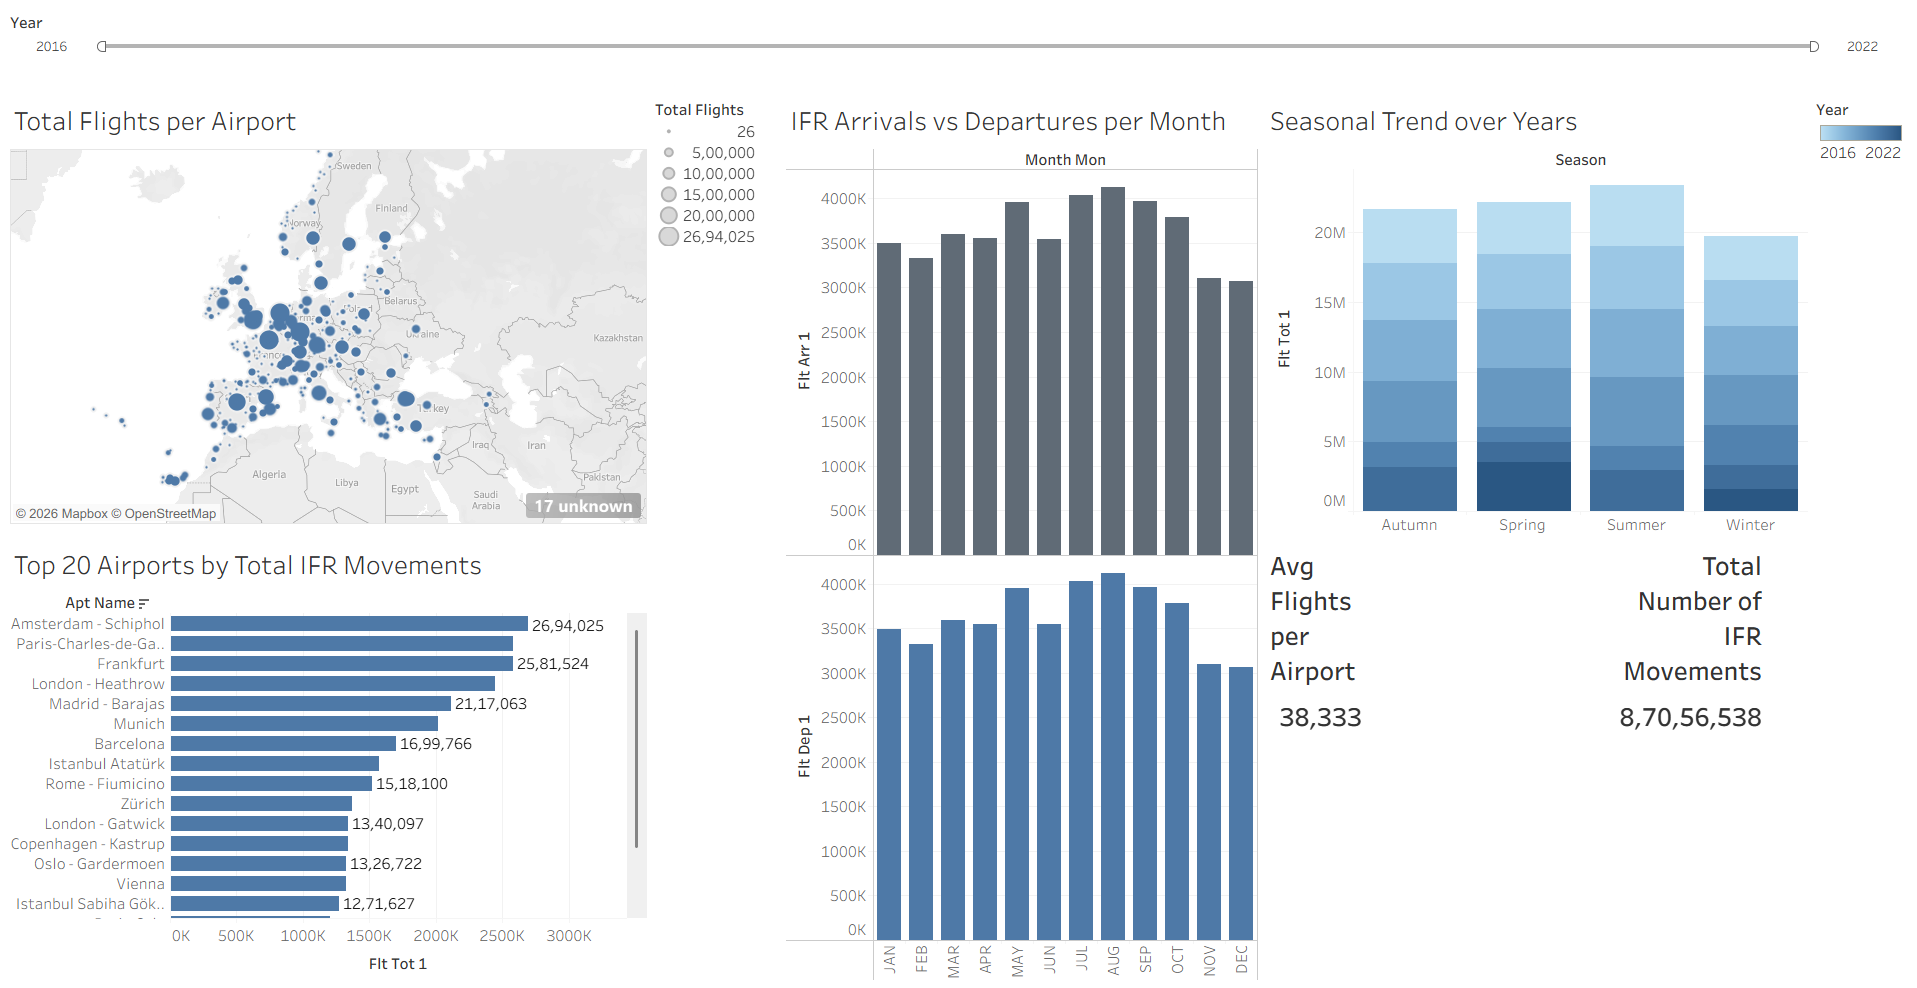

What the dashboard file says about the page in this screenshot:
{"tool":"tableau","page":{"name":"European IFR movements","canvas":[1000,1000],"units":"permille","ordinal":0},"visuals":[{"type":"filter","title":"Total Flights per Airport","param":"[federated.0al27mt1p6d7nz19milpa05riklj].[none:YEAR:qk]","box":[4.8,9.3,990.3,87.1]},{"type":"worksheet","title":"Total Flights per Airport","mark":"Automatic","box":[4.8,96.4,332.6,446.6]},{"type":"legend","title":"Total Flights per Airport","param":"[federated.0al27mt1p6d7nz19milpa05riklj].[sum:FLT_TOT_1:qk]","box":[337.4,96.4,67.5,894.3]},{"type":"worksheet","title":"IFR Arrivals vs Departures per Month","mark":"Automatic","rows":["FLT_ARR_1","FLT_DEP_1"],"cols":["MONTH_MON"],"box":[404.9,96.4,247.4,894.3]},{"type":"worksheet","title":"Seasonal Trend over Years","mark":"Bar","rows":["FLT_TOT_1"],"cols":["Calculation_1356709402570801157"],"box":[652.3,96.4,283.7,447.2]},{"type":"legend","title":"Seasonal Trend over Years","param":"[federated.0al27mt1p6d7nz19milpa05riklj].[none:YEAR:qk]","box":[936,96.4,59.1,84.8]},{"type":"worksheet","title":"Top 20 Airports by Total IFR Movements","mark":"Automatic","rows":["APT_NAME"],"cols":["FLT_TOT_1"],"box":[4.8,543,332.6,447.7]},{"type":"worksheet","title":"Avg Flights per Airport","mark":"Automatic","box":[652.3,543.5,175.7,447.2]},{"type":"worksheet","title":"Total number of IFR ","mark":"Automatic","box":[828,543.5,108,447.2]}]}

Visuals, with their boxes on the dashboard's canvas, which has no fixed pixel size, in thousandths of its width and height (x1, y1, x2, y2). These are canvas units, not pixel positions in the 1917x988 screenshot, which may show the page scaled, cropped or inside an application window:
"Total Flights per Airport" filter: rect(5, 9, 995, 96)
"Total Flights per Airport" worksheet: rect(5, 96, 337, 543)
"Total Flights per Airport" legend: rect(337, 96, 405, 991)
"IFR Arrivals vs Departures per Month" worksheet: rect(405, 96, 652, 991)
"Seasonal Trend over Years" worksheet (Bar marks): rect(652, 96, 936, 544)
"Seasonal Trend over Years" legend: rect(936, 96, 995, 181)
"Top 20 Airports by Total IFR Movements" worksheet: rect(5, 543, 337, 991)
"Avg Flights per Airport" worksheet: rect(652, 544, 828, 991)
"Total number of IFR " worksheet: rect(828, 544, 936, 991)
